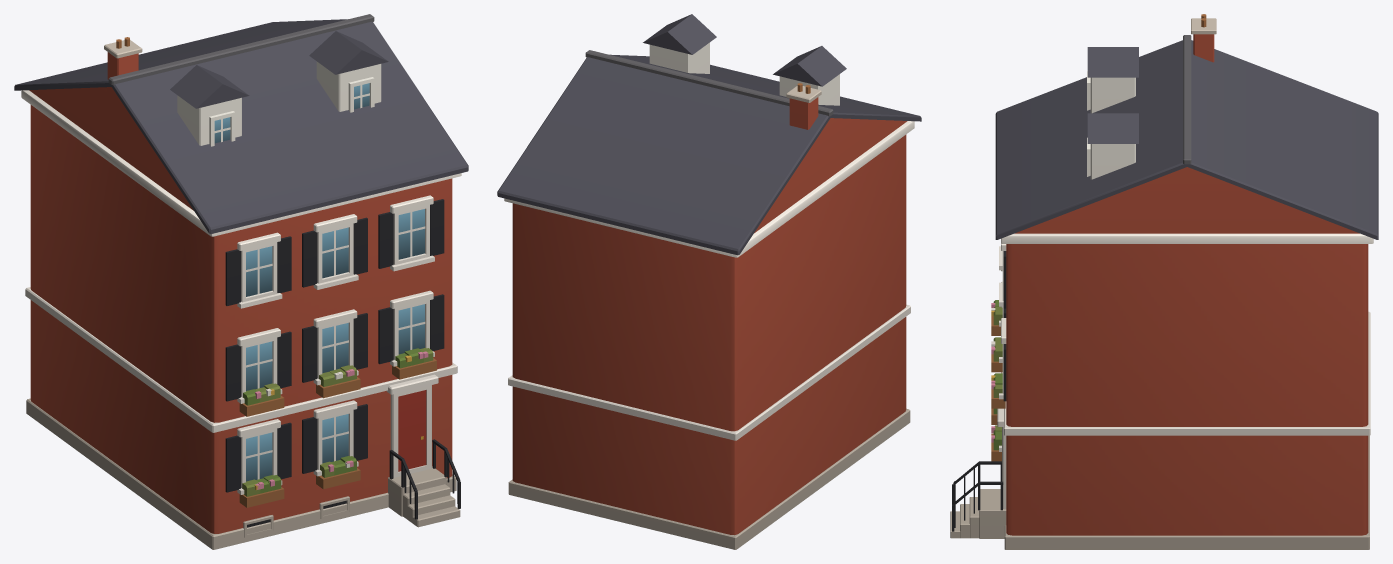
File: lane_e7.glb
3 renders of one model, left to right at view 1: azimuth 30°, elevation 25°; view 2: azimuth 150°, elevation 25°; view 3: azimuth 270°, elevation 25°, orthographic. The views are drawn at different scales.
Parts seen in each view (by area): view 1: lane_e7; view 2: lane_e7; view 3: lane_e7.
Boxes of the visible parts, x1=… form: lane_e7: x1=14, y1=14, x2=468, y2=549; lane_e7: x1=497, y1=14, x2=921, y2=549; lane_e7: x1=950, y1=14, x2=1378, y2=549.
Size of the model in its own units: 9.8 by 15.45 by 14.21.
1 material, 1 textured.
